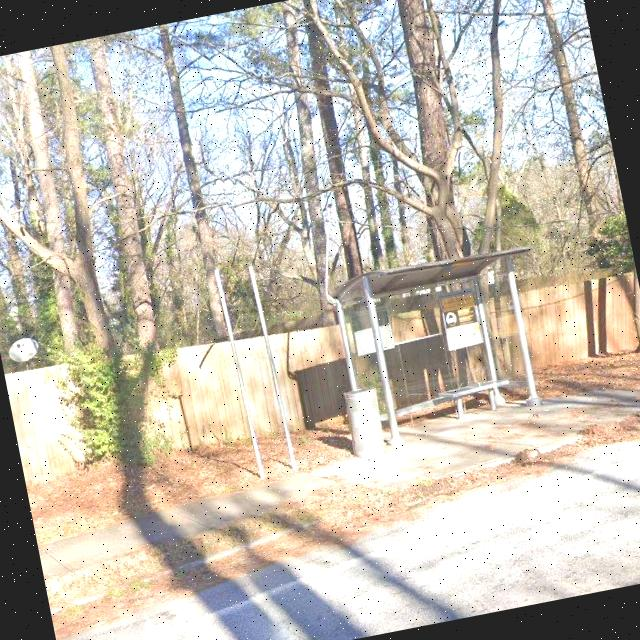seating: (432, 376, 516, 424)
shelter: (328, 239, 566, 456)
trash_can: (342, 385, 389, 463)
